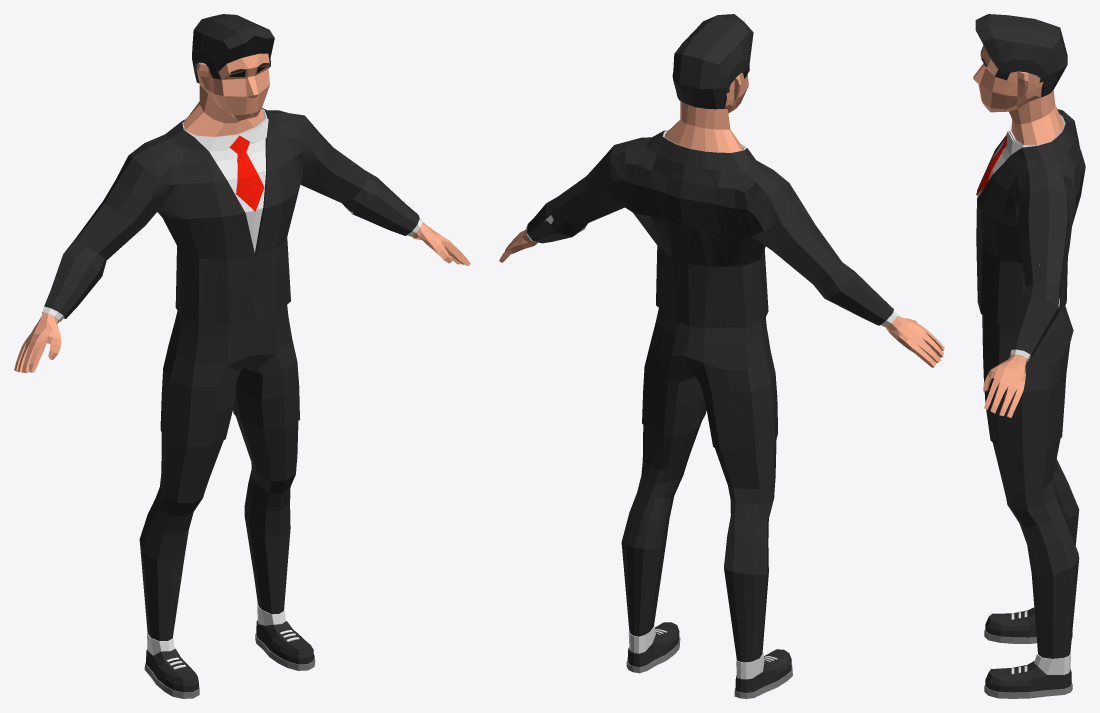
The model's file is Character Penjaga Portal.fbx.
The picture shows the model from 3 angles, left to right: view 1: azimuth 30°, elevation 25°; view 2: azimuth 150°, elevation 25°; view 3: azimuth 270°, elevation 25°; orthographic projection. The views are drawn at different scales.
Parts seen in each view (by area): view 1: character1, character1.003, character1.005; view 2: character1, character1.003; view 3: character1, character1.003, character1.005.
Boxes of the visible parts, left/top/right/bottom form: character1: left=14, top=14, right=470, bottom=698; character1.003: left=44, top=108, right=419, bottom=324; character1.005: left=195, top=119, right=268, bottom=211; character1: left=499, top=14, right=944, bottom=698; character1.003: left=527, top=130, right=893, bottom=327; character1: left=973, top=14, right=1079, bottom=698; character1.003: left=976, top=109, right=1085, bottom=357; character1.005: left=976, top=122, right=1023, bottom=194.
Size of the model in its own units: 133 by 186 by 29.42.
